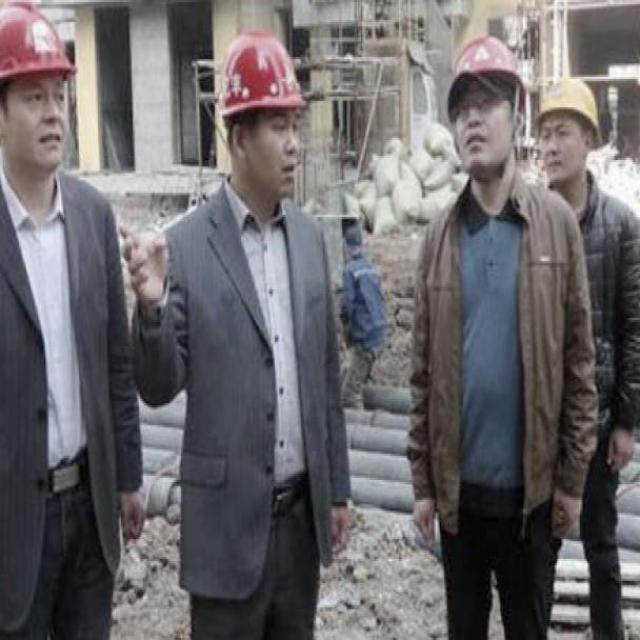helmet: (0, 0, 87, 183), (222, 20, 305, 208), (444, 13, 532, 182), (537, 39, 599, 180)
